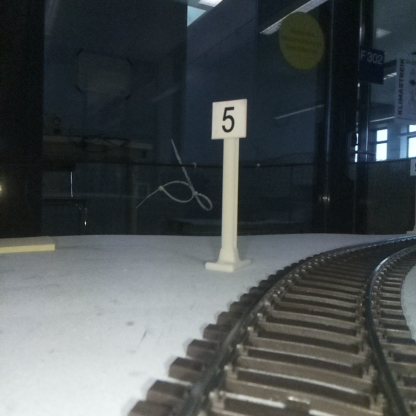white-info-5: (212, 99, 245, 268)
